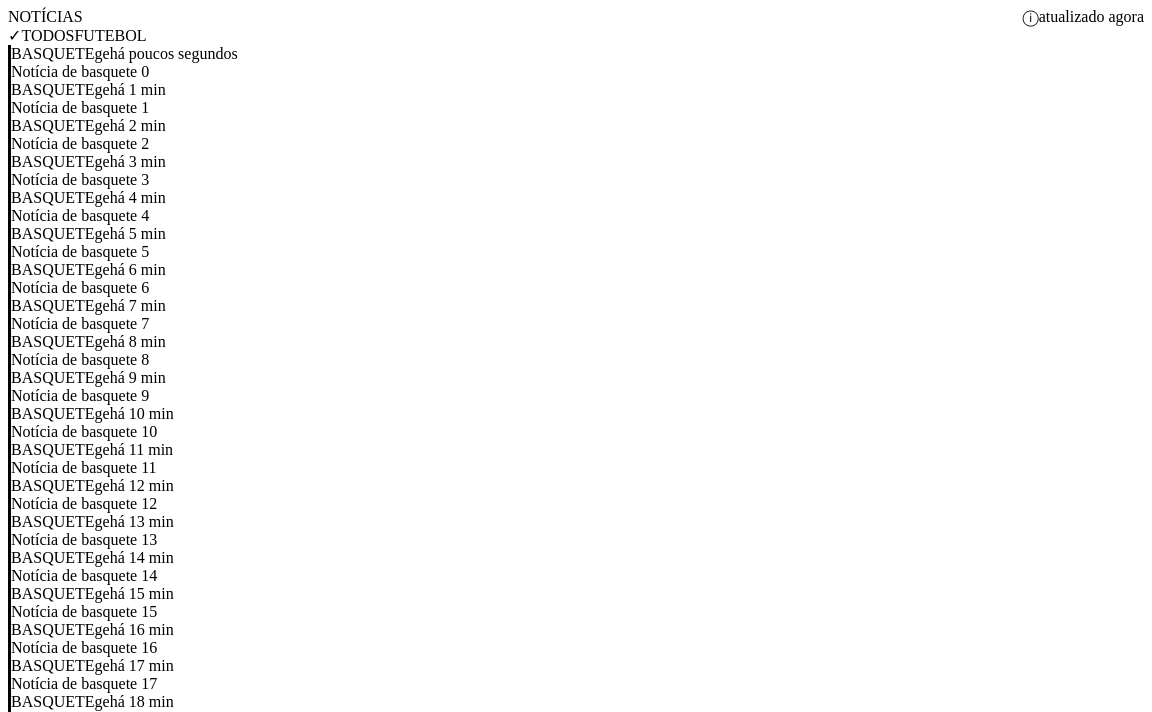
Test case: SecaoNoticias › filtro por esporte não perde itens por causa do corte de 30 de "Todos" (filtra antes de cortar)
expect the text "Notícia de futebol mais antiga" is not shown: met
Click the button "Futebol" at [110, 36], box [74, 26, 146, 45]
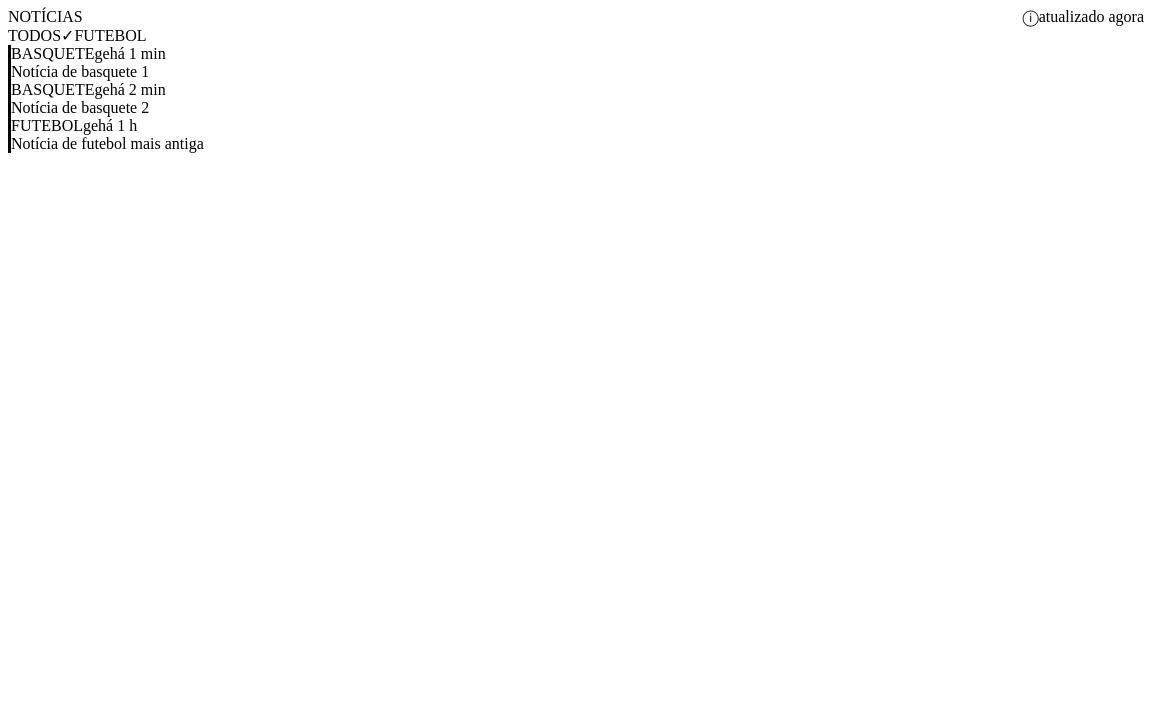
expect the text "Notícia de futebol mais antiga" is shown: met, box [11, 135, 204, 152]
